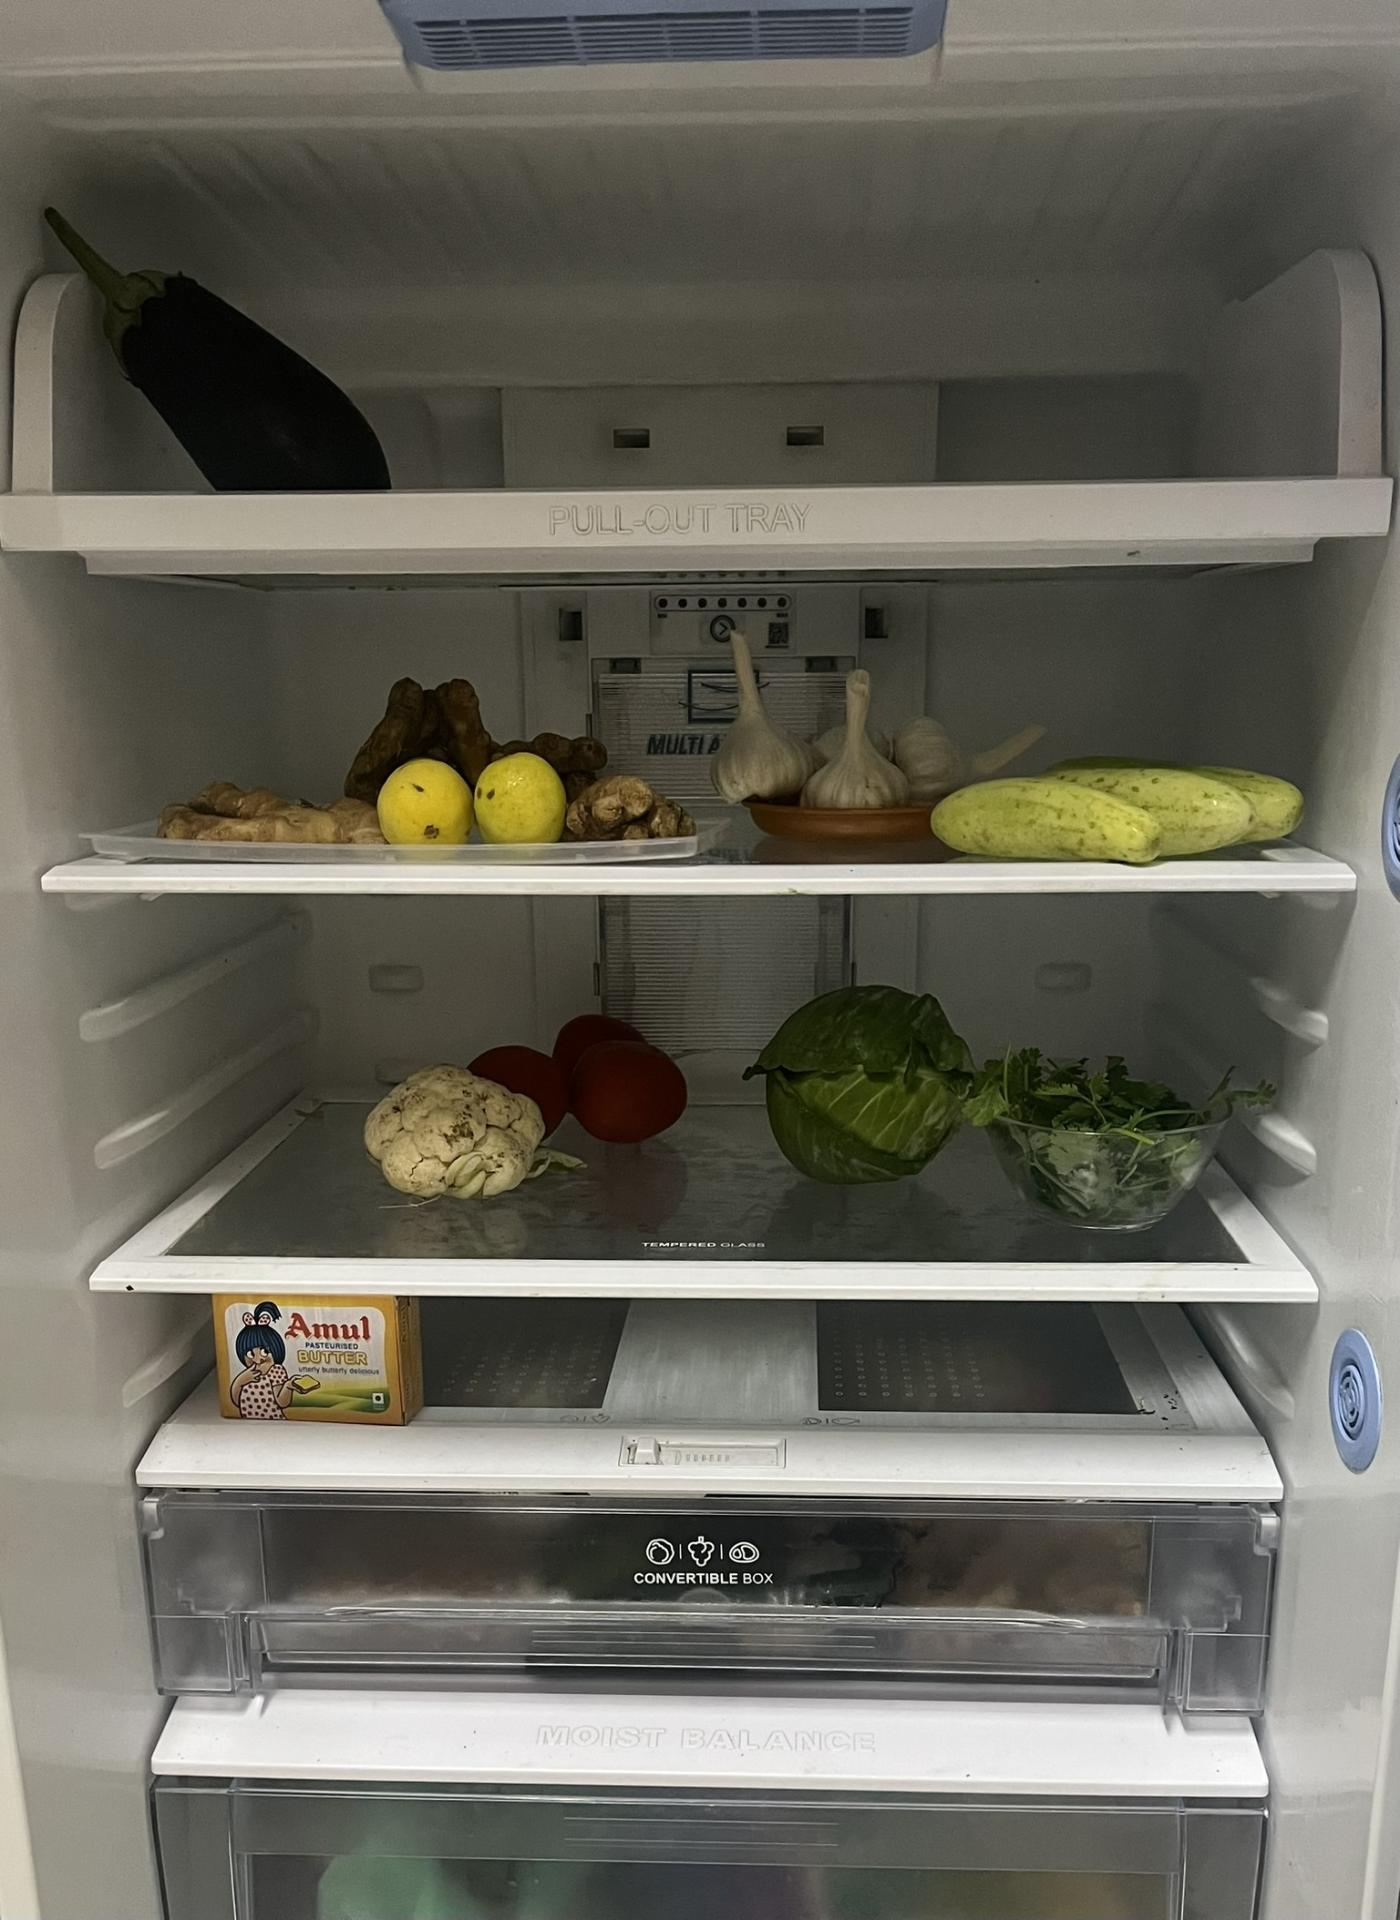brinjal: (54, 206, 385, 496)
butter: (203, 1288, 423, 1419)
cauliflower: (365, 1063, 565, 1196)
coriander: (1017, 1057, 1199, 1230)
cucumber: (932, 762, 1297, 865)
garlic: (722, 622, 994, 809)
ginger: (365, 678, 683, 851), (158, 768, 388, 845)
lemon: (373, 759, 576, 850)
lettuce: (760, 985, 986, 1172)
tomato: (495, 1021, 687, 1137)
